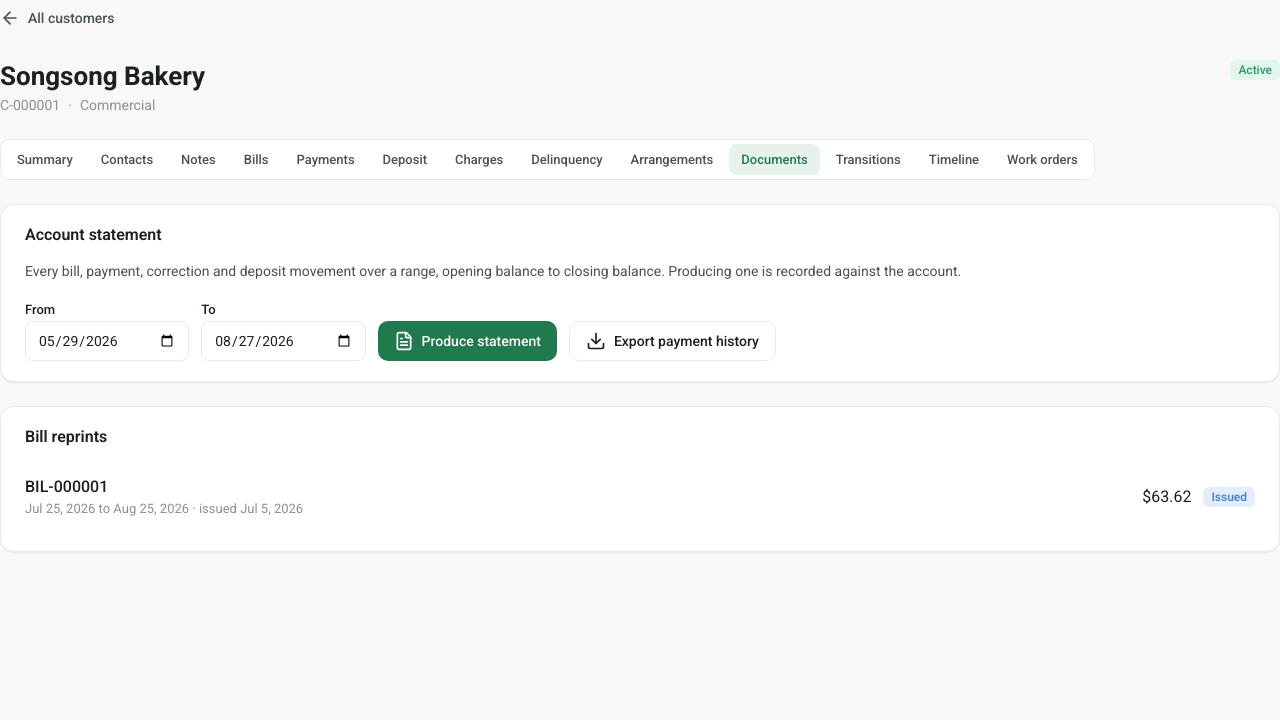
the documents tab › reads as a carried-across balance when nothing happened in the period
The image size is (1280, 720).
Click the button "Produce statement" at (467, 341), box [378,321,557,361]
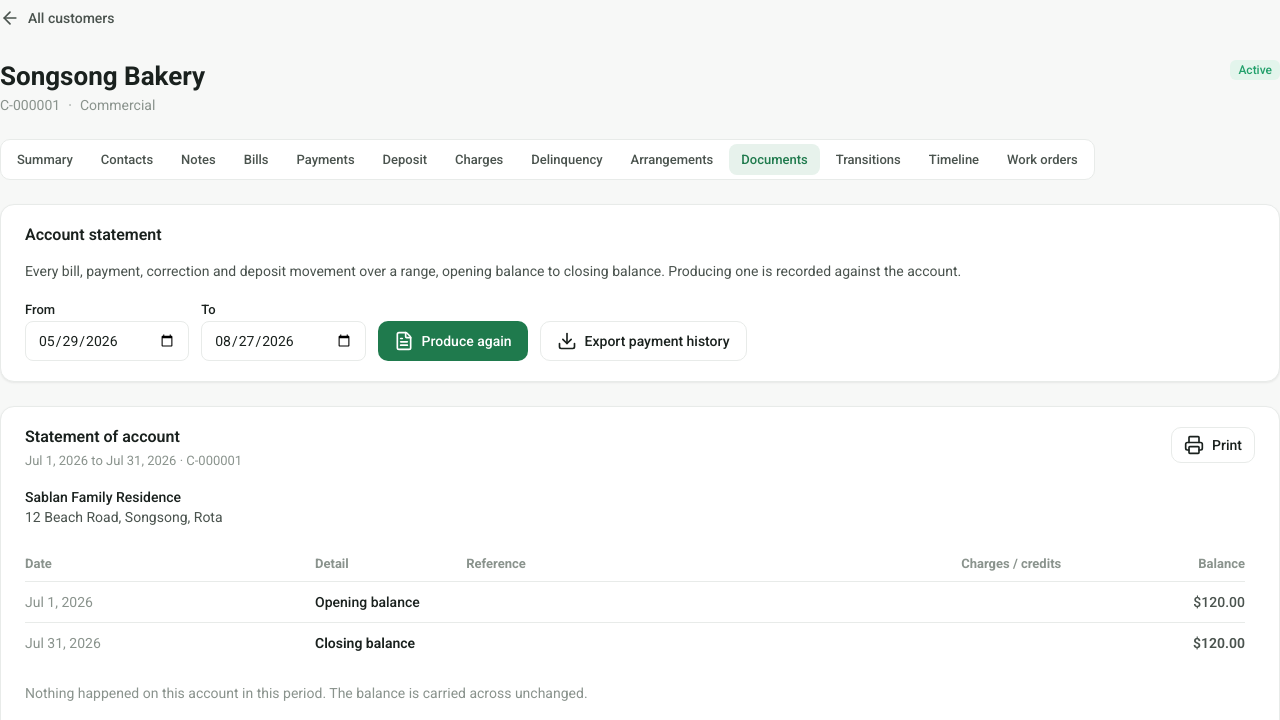
Now the text "Nothing happened on this account in this period" is shown, box [25,685,588,701]
